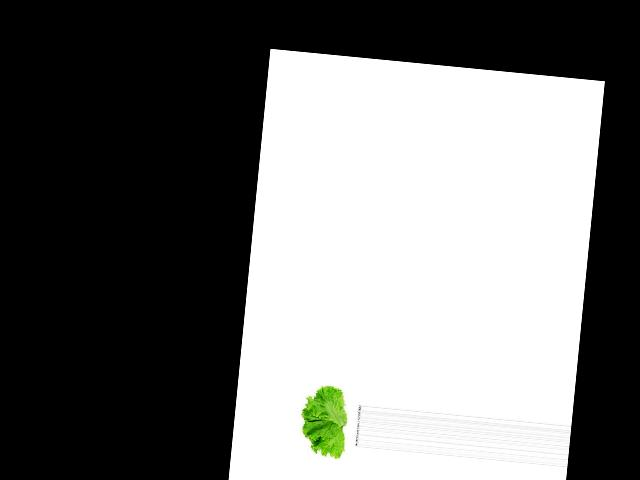lettuce: (297, 381, 359, 460)
